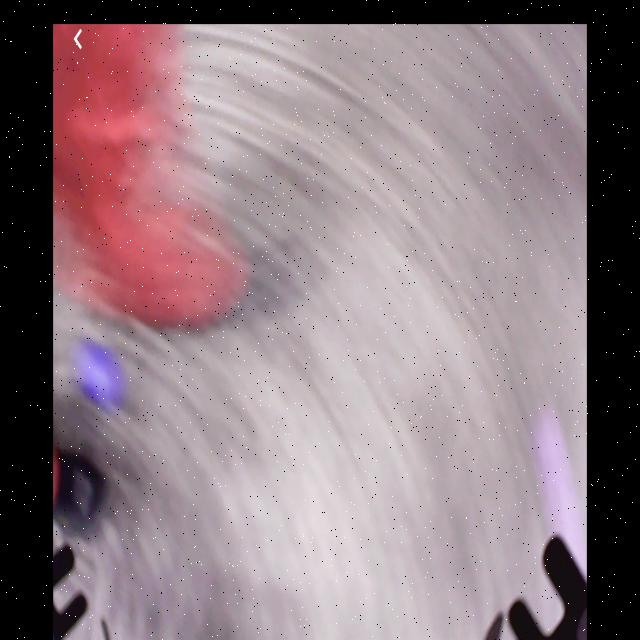ball: (84, 352, 122, 408)
